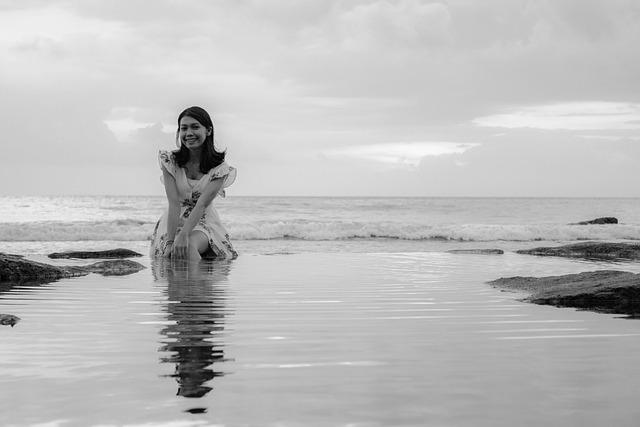Non_Gorille: (54, 1, 473, 420)
